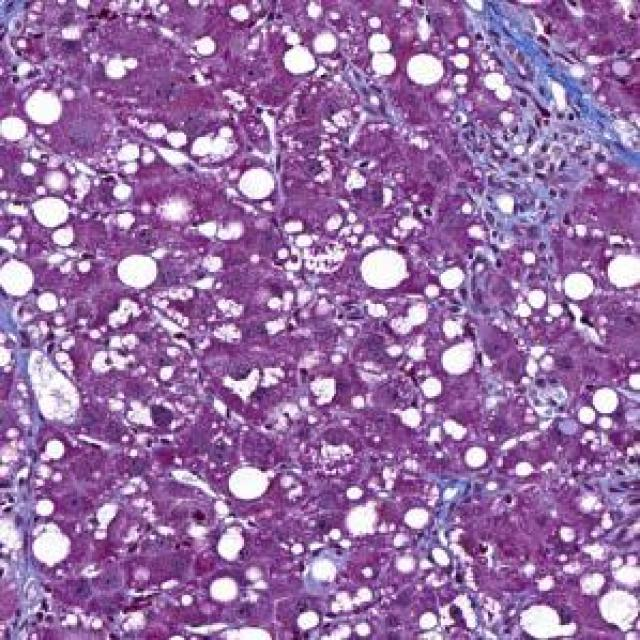fibrosis: (468, 13, 620, 244)
